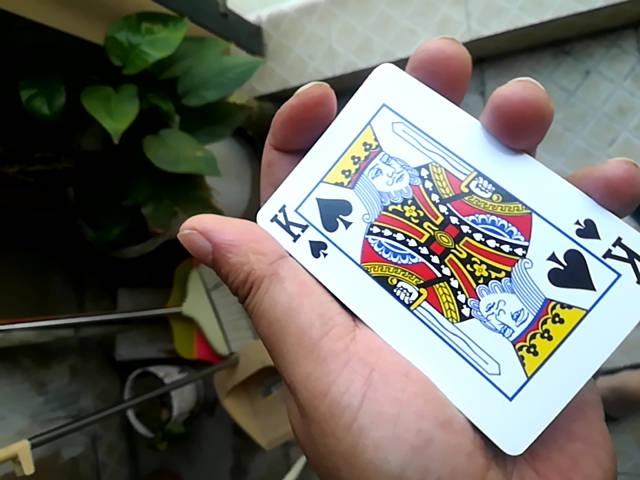ht k: (235, 61, 631, 457)
